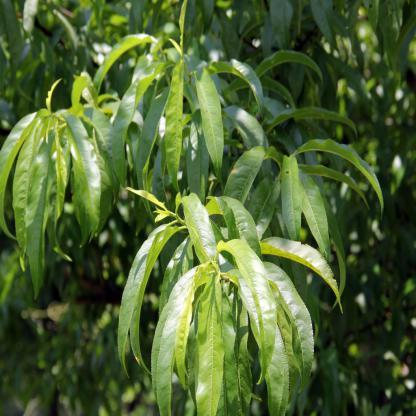Peach leaf: (110, 222, 176, 384), (216, 240, 276, 381), (294, 137, 385, 217), (262, 260, 312, 398), (256, 235, 344, 312), (20, 129, 58, 305), (190, 272, 226, 416), (63, 112, 100, 238), (192, 69, 223, 181), (174, 274, 200, 393), (176, 193, 218, 266), (162, 56, 184, 194)
